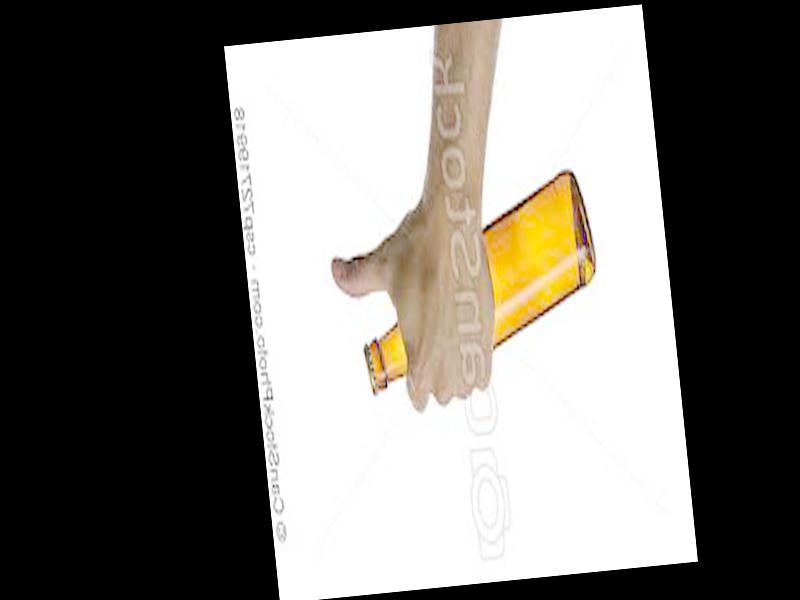Beer: (349, 166, 606, 393)
